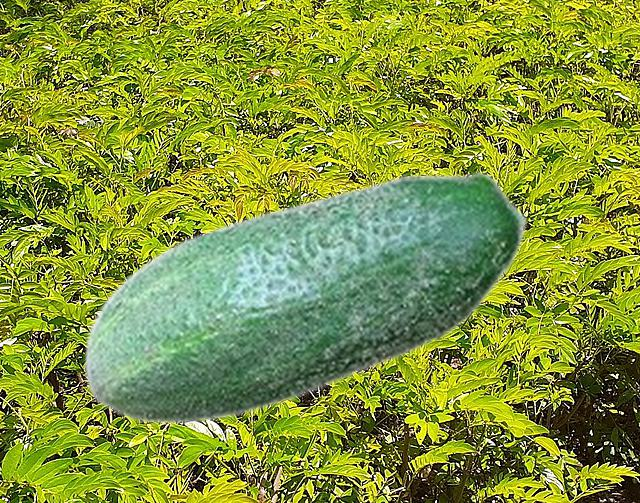cucumber: (82, 170, 528, 424)
